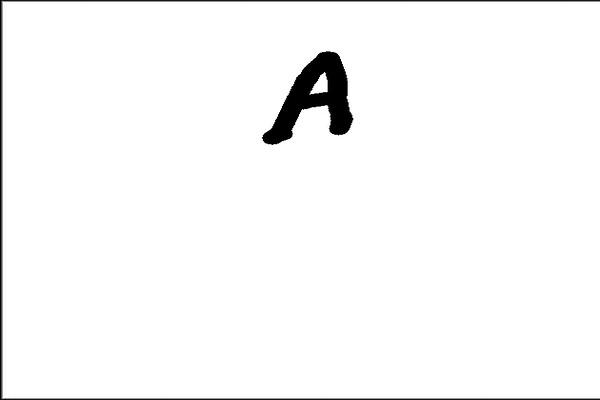A: (253, 43, 358, 148)
